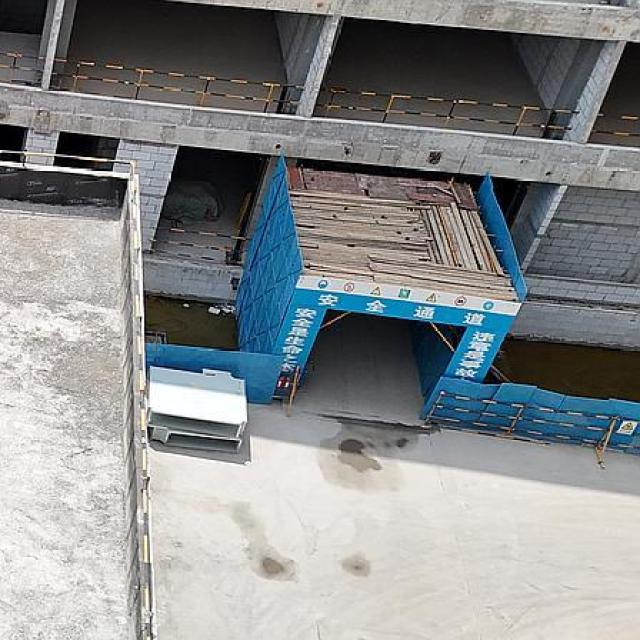edge_guardrail: (0, 148, 155, 640), (52, 57, 304, 113), (315, 87, 581, 137), (150, 226, 250, 264), (0, 51, 46, 85), (590, 112, 640, 138)
